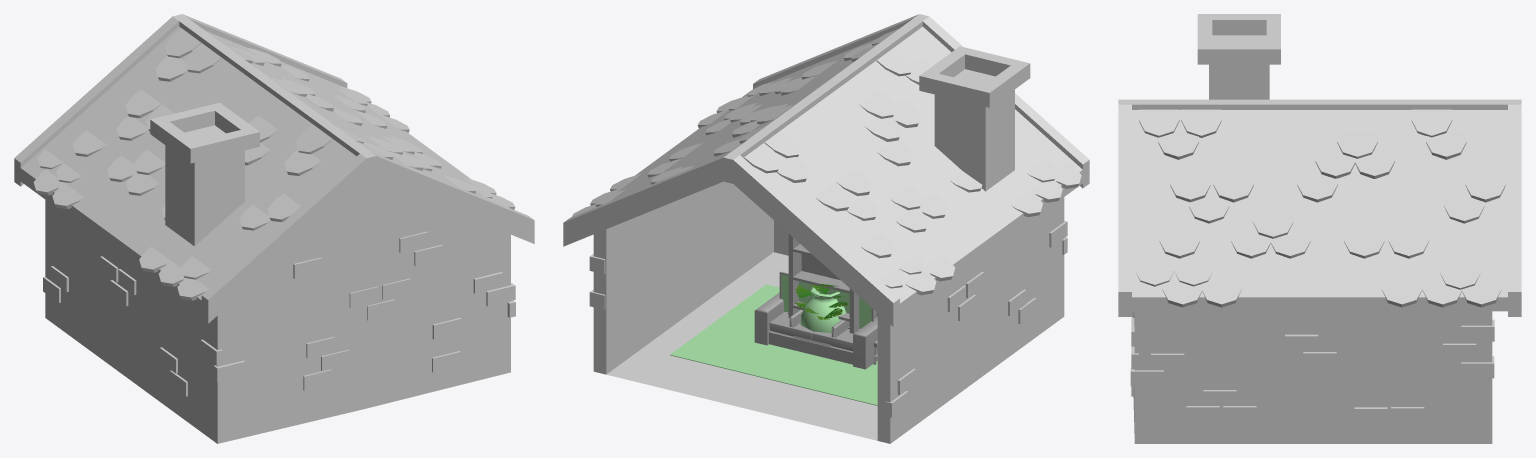
The model's file is FBX_LivingroomAssets.fbx.
3 renders of one model, left to right at view 1: azimuth 30°, elevation 25°; view 2: azimuth 150°, elevation 25°; view 3: azimuth 270°, elevation 25°, orthographic. The views are drawn at different scales.
Parts seen in each view (by area): view 1: House; view 2: House, Carpet, Couch, BookCase, vase, TV, Plant; view 3: House.
Boxes of the visible parts, left/top/right/bottom form: House: left=14, top=14, right=534, bottom=443; House: left=563, top=14, right=1089, bottom=443; Carpet: left=670, top=284, right=877, bottom=405; Couch: left=754, top=292, right=877, bottom=369; BookCase: left=788, top=234, right=859, bottom=333; vase: left=800, top=287, right=846, bottom=332; TV: left=779, top=271, right=873, bottom=328; Plant: left=795, top=284, right=847, bottom=319; House: left=1118, top=14, right=1521, bottom=443.
Size of the model in its own units: 8.41 by 6.92 by 8.19.
